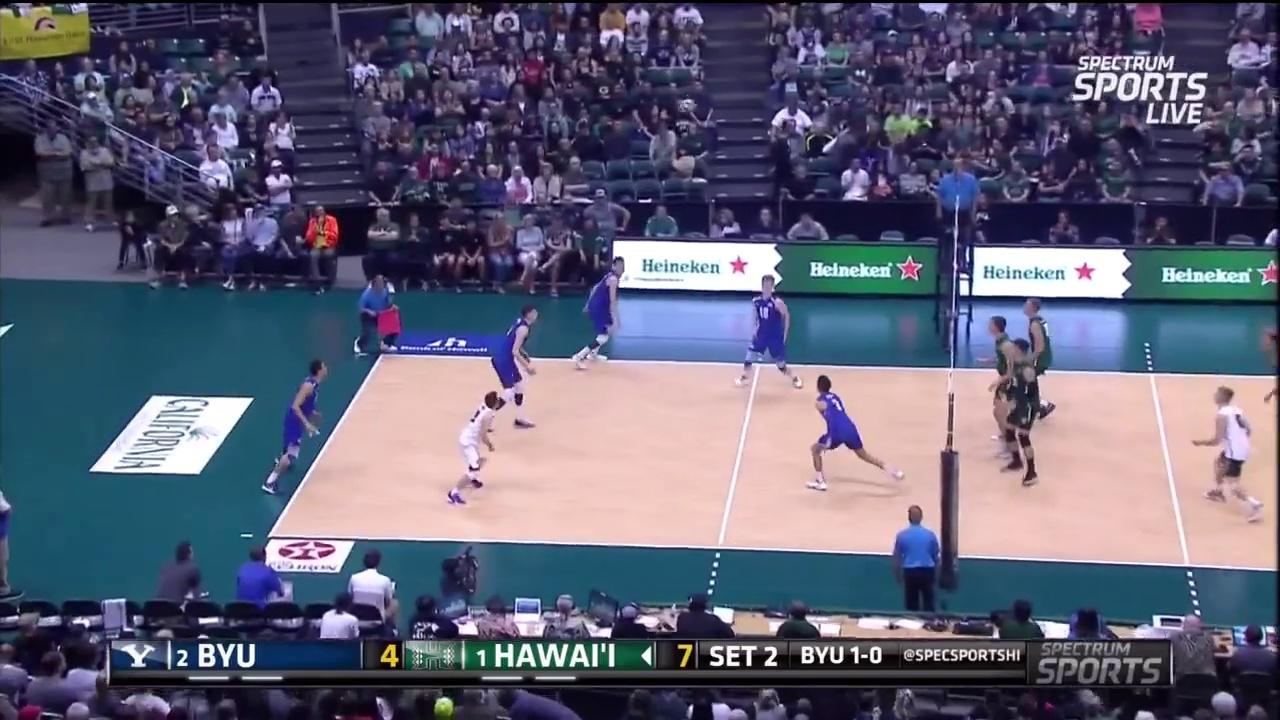player: (808, 378, 902, 493), (1189, 386, 1263, 521), (260, 358, 328, 493), (737, 274, 803, 388), (486, 305, 537, 431), (1004, 339, 1044, 487), (450, 393, 504, 501), (984, 316, 1024, 458), (577, 256, 627, 369), (1020, 297, 1062, 421)
refree: (891, 503, 950, 615), (939, 156, 981, 273), (355, 273, 405, 357)
